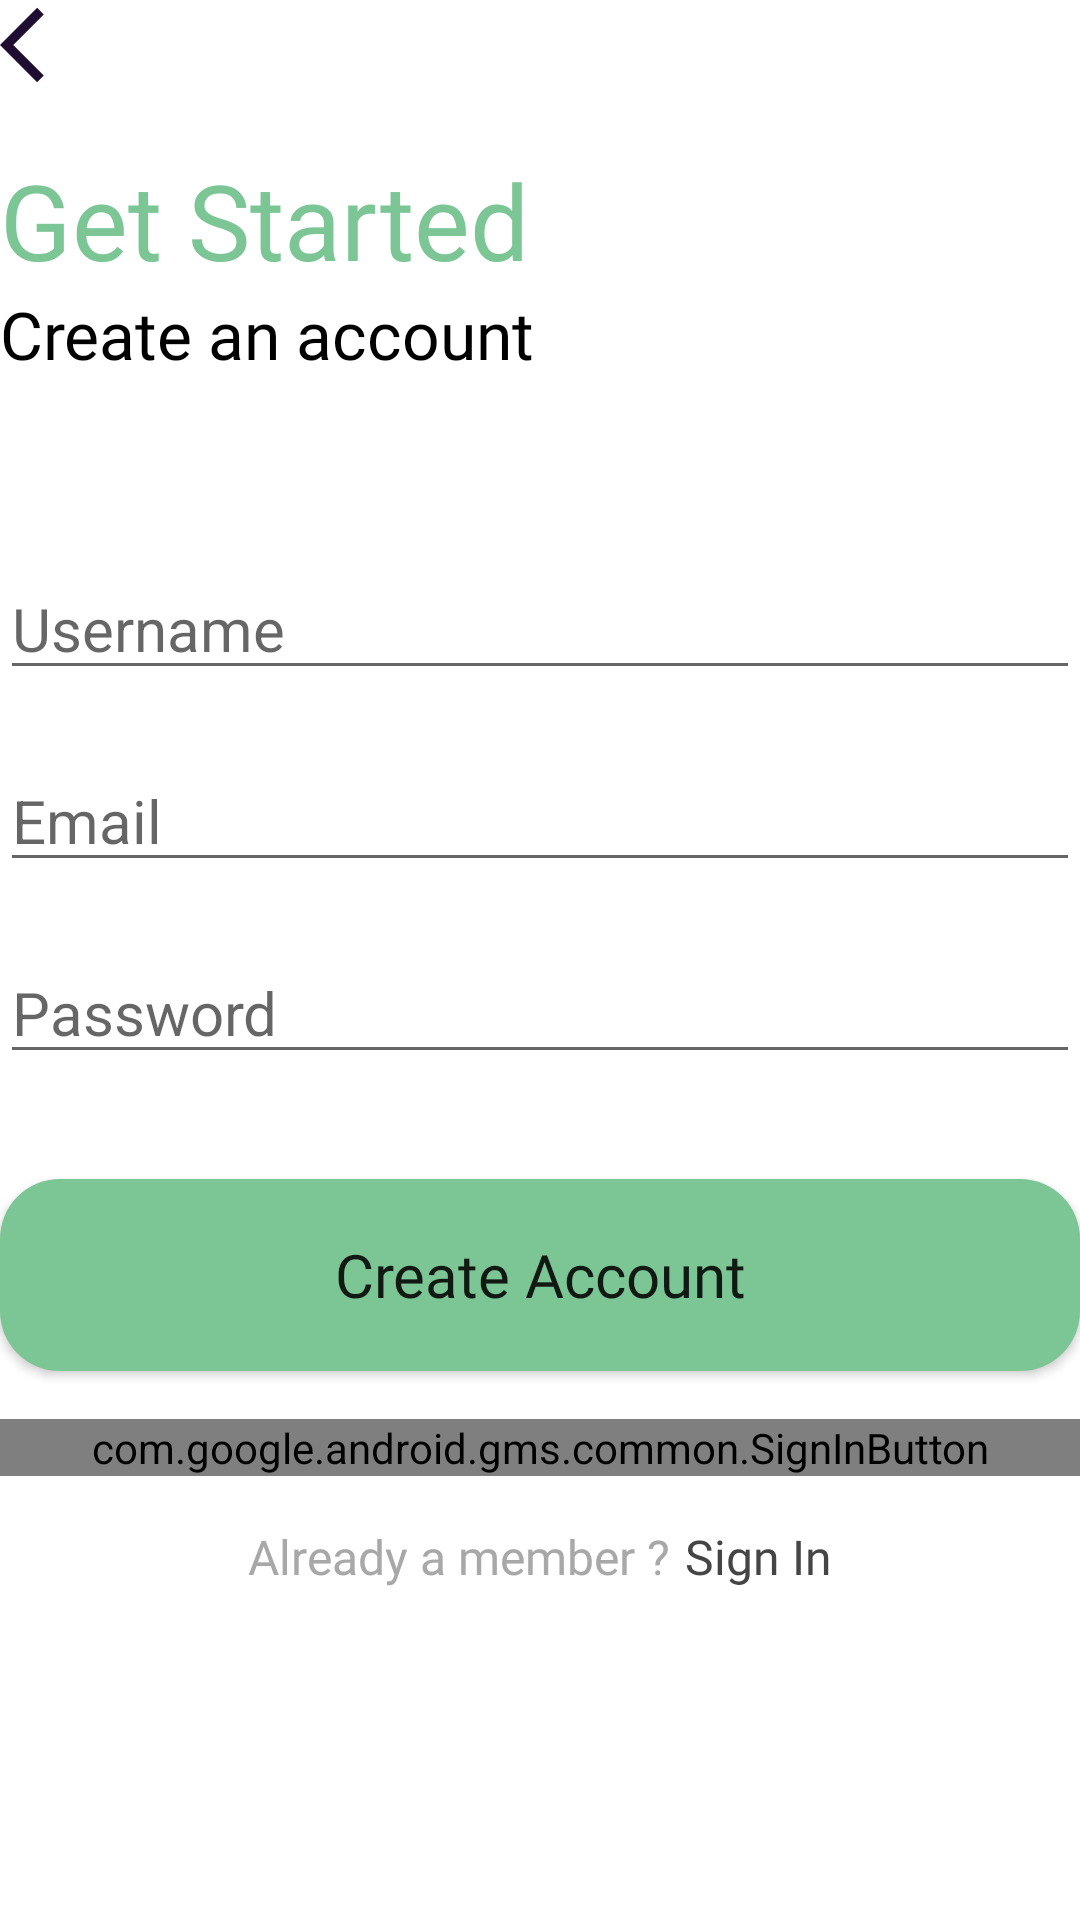

Icon bounding boxes for this 1080px×1920px phone screenshot, format box(x1, y1, x2, y2):
arrow back: box(0, 8, 44, 82)
